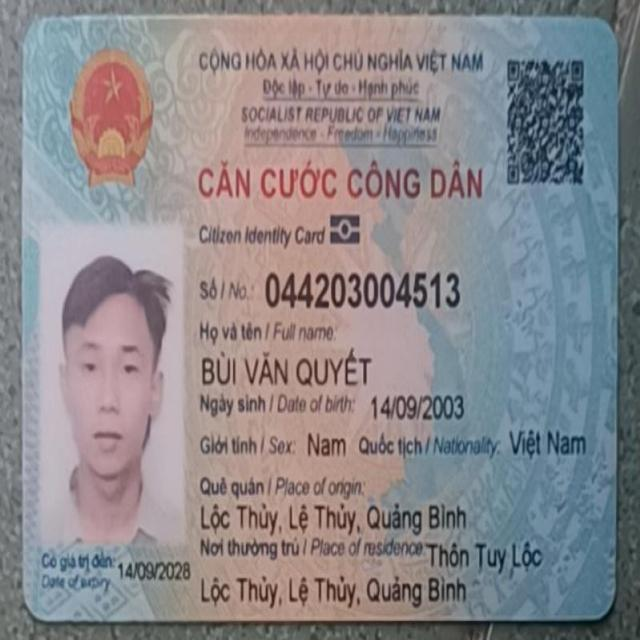current_place: (198, 571, 470, 610), (426, 536, 551, 583)
dob: (367, 389, 466, 420)
expire_date: (115, 555, 193, 588)
gender: (305, 427, 348, 461)
id: (264, 267, 463, 308)
name: (198, 345, 374, 390)
nationality: (505, 423, 587, 463)
origin_place: (198, 497, 470, 534)
qr: (503, 54, 589, 192)
